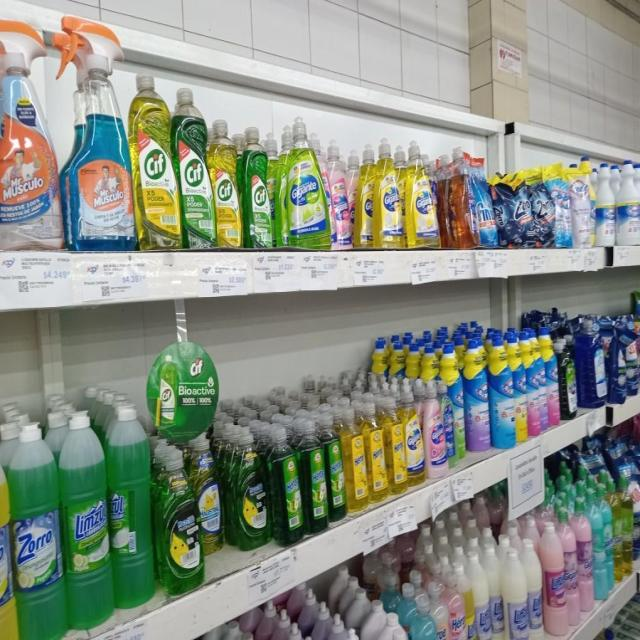cif_conc_bot_amarilla: (132, 69, 176, 251), (212, 118, 240, 250)
cif_conc_botella_verde: (177, 86, 211, 249), (242, 123, 274, 250)
magistral_con_amarillo: (198, 437, 222, 556)
